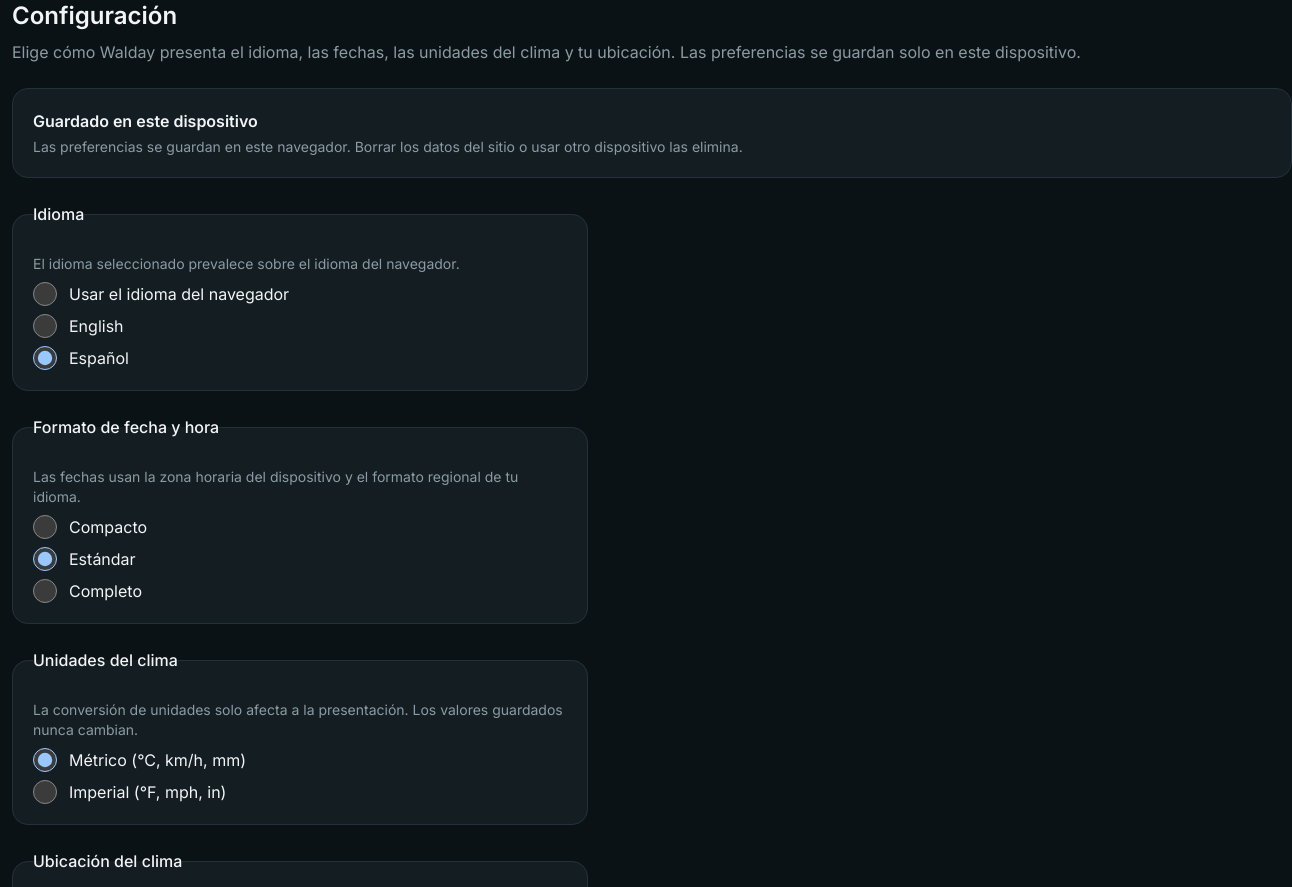
it: language selection and localization (US2) › round-trips the use-browser-language choice
Expected: the heading "Configuración" is shown, top-left (12, 1), bottom-right (177, 30)
Click the radio button labelled "Usar el idioma del navegador" at {"x": 45, "y": 294}, box top-left (33, 282), bottom-right (57, 306)
(page scrolled)
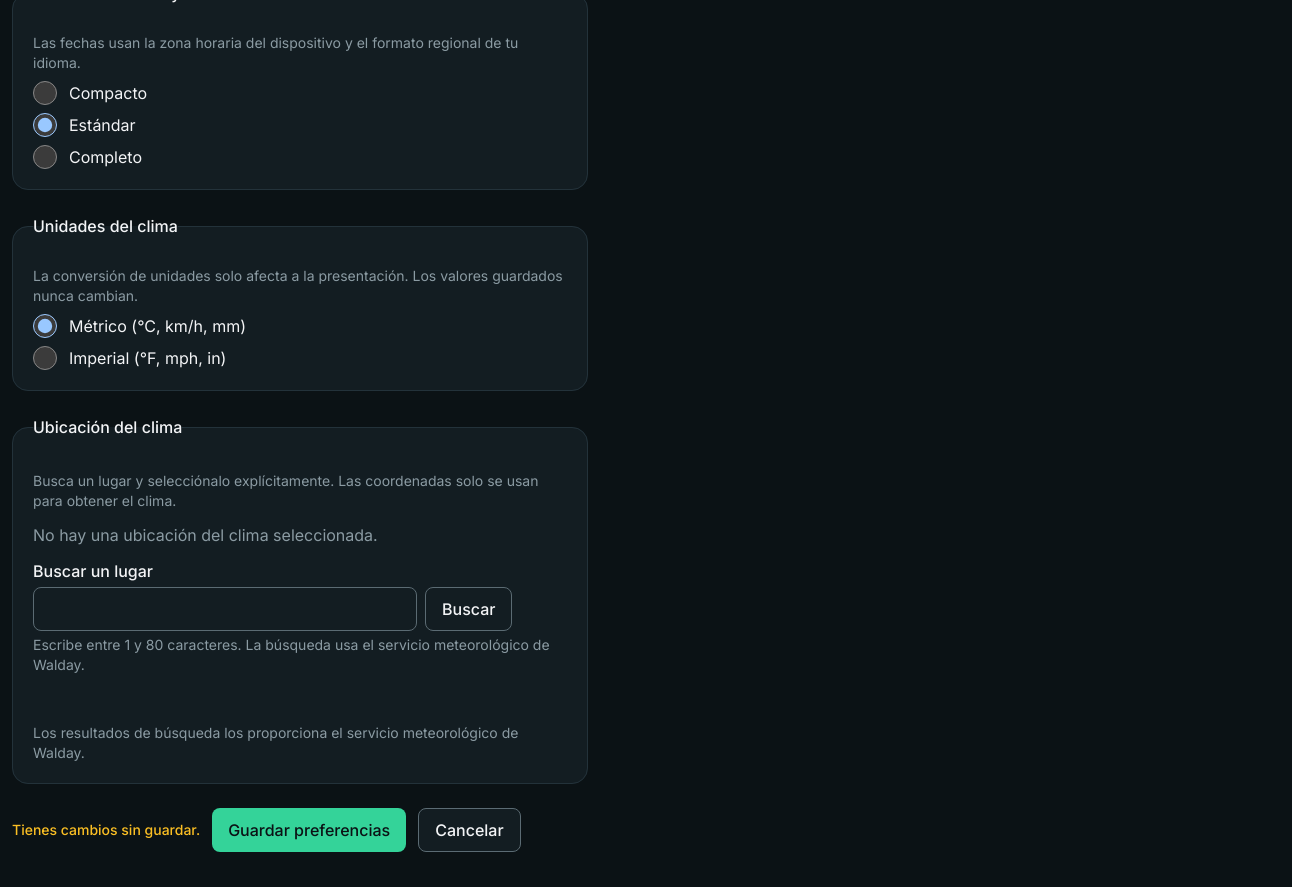
Click the button "Guardar preferencias" at {"x": 309, "y": 830}, box top-left (212, 808), bottom-right (406, 852)
(page scrolled)
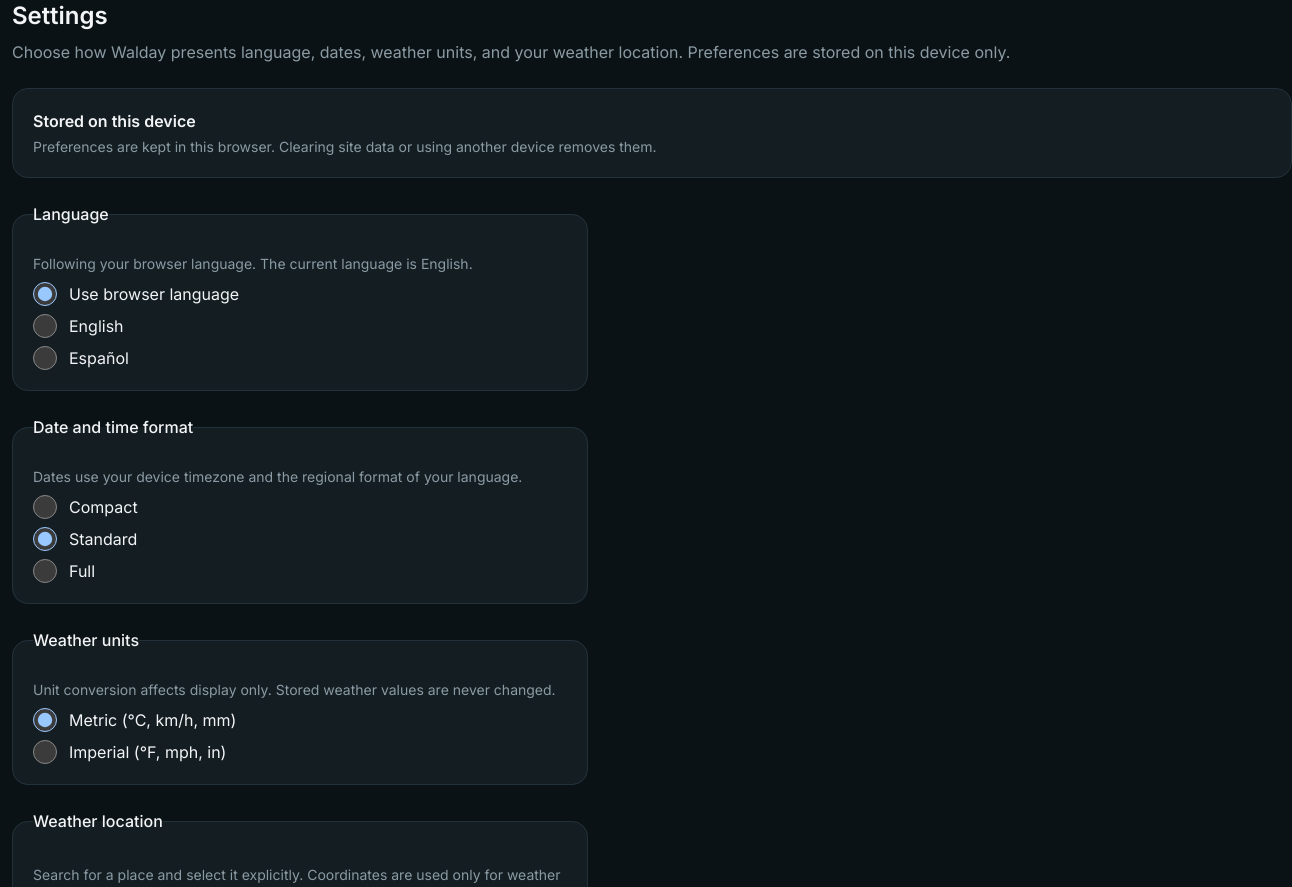
Expected: the heading "Settings" is shown, top-left (12, 1), bottom-right (108, 30)
